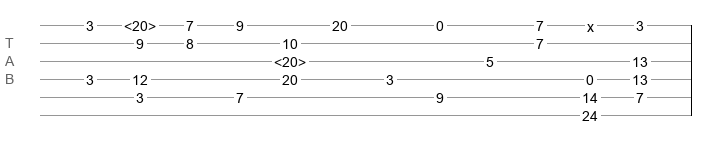0: (436, 18, 444, 28), (586, 72, 594, 82)
10: (282, 36, 298, 46)
12: (132, 72, 148, 82)
13: (632, 72, 648, 82), (632, 54, 648, 64)
14: (582, 90, 598, 100)
20: (282, 72, 298, 82), (332, 18, 348, 28)
24: (582, 108, 598, 118)
3: (86, 72, 94, 82), (86, 18, 94, 28), (136, 90, 144, 100), (386, 72, 394, 82), (636, 18, 644, 28)
5: (486, 54, 494, 64)
7: (186, 18, 194, 28), (236, 90, 244, 100), (536, 18, 544, 28), (536, 36, 544, 46), (636, 90, 644, 100)
8: (186, 36, 194, 46)
9: (136, 36, 144, 46), (236, 18, 244, 28), (436, 90, 444, 100)
harmonic: (124, 18, 156, 28), (274, 54, 306, 64)
x: (587, 19, 594, 27)
